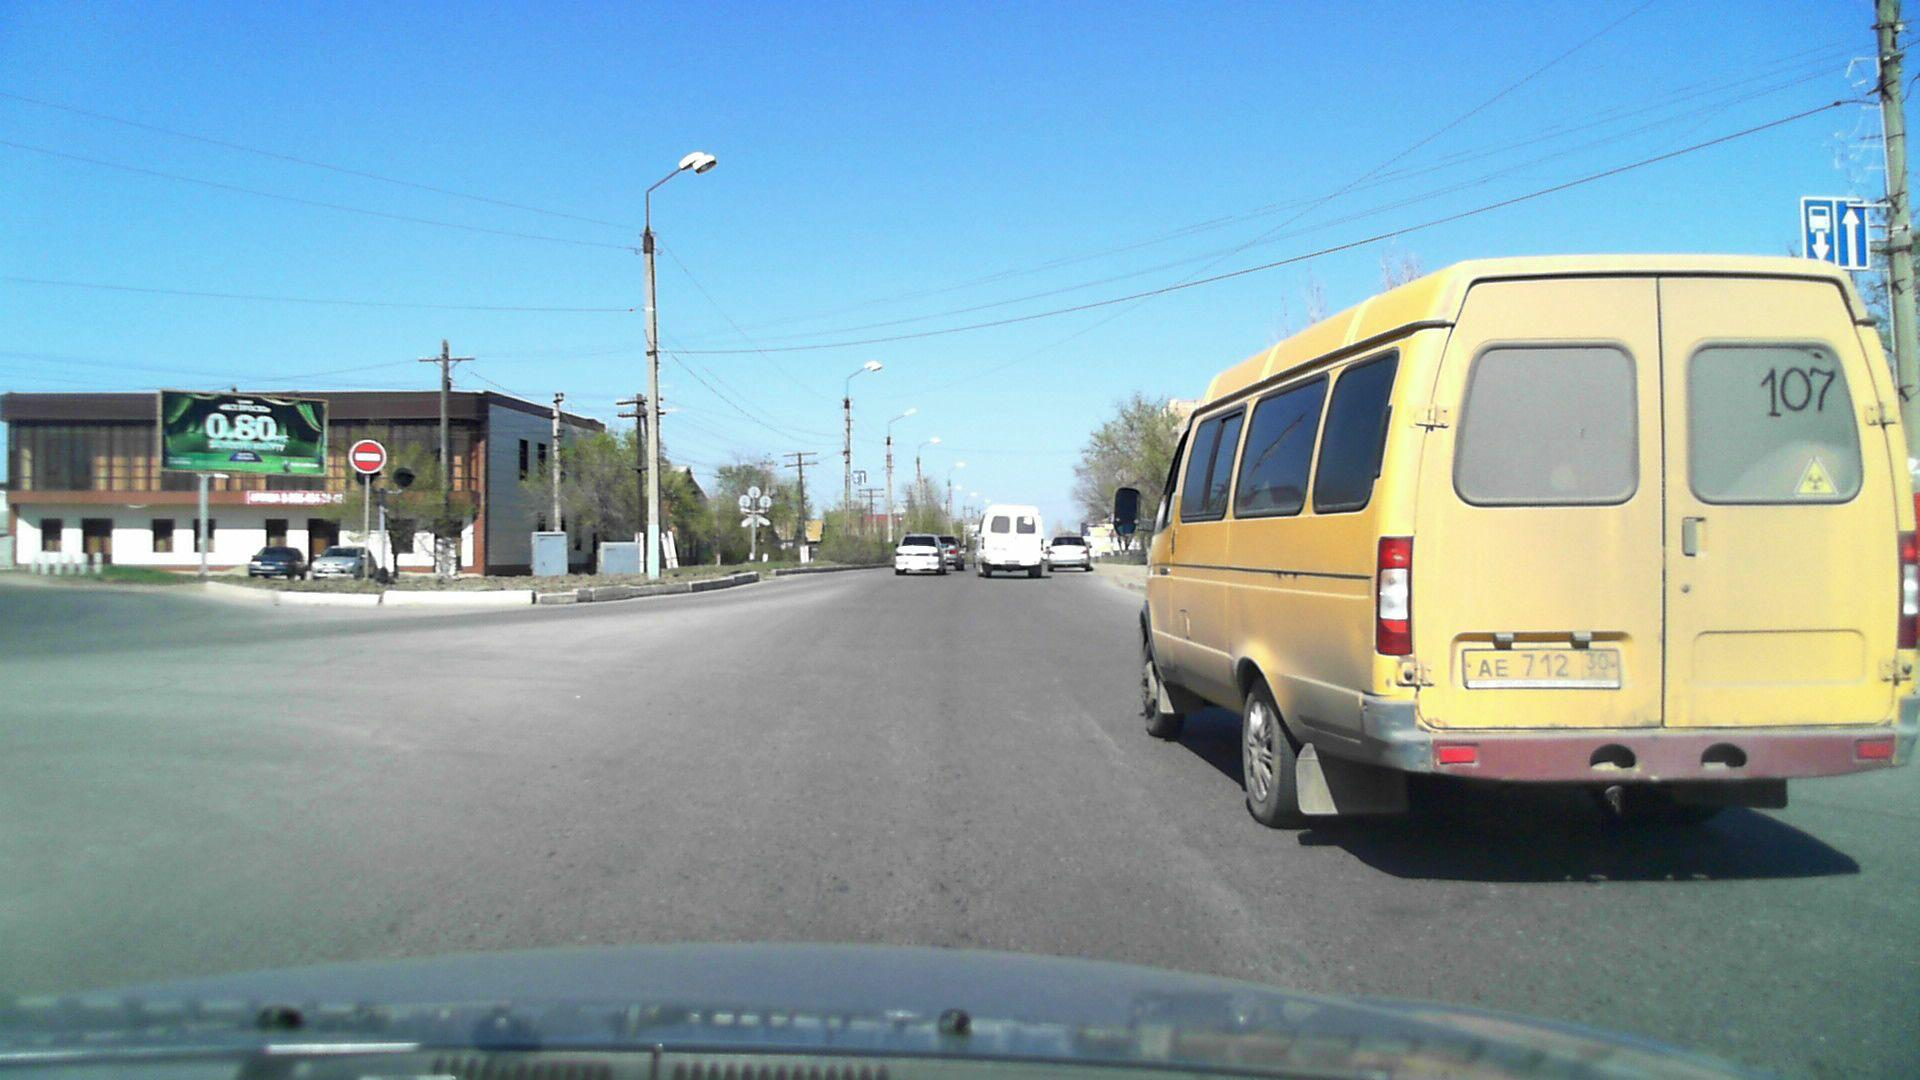3_1: (351, 439, 388, 475)
5_11_1: (1800, 198, 1871, 272), (851, 472, 869, 491)
